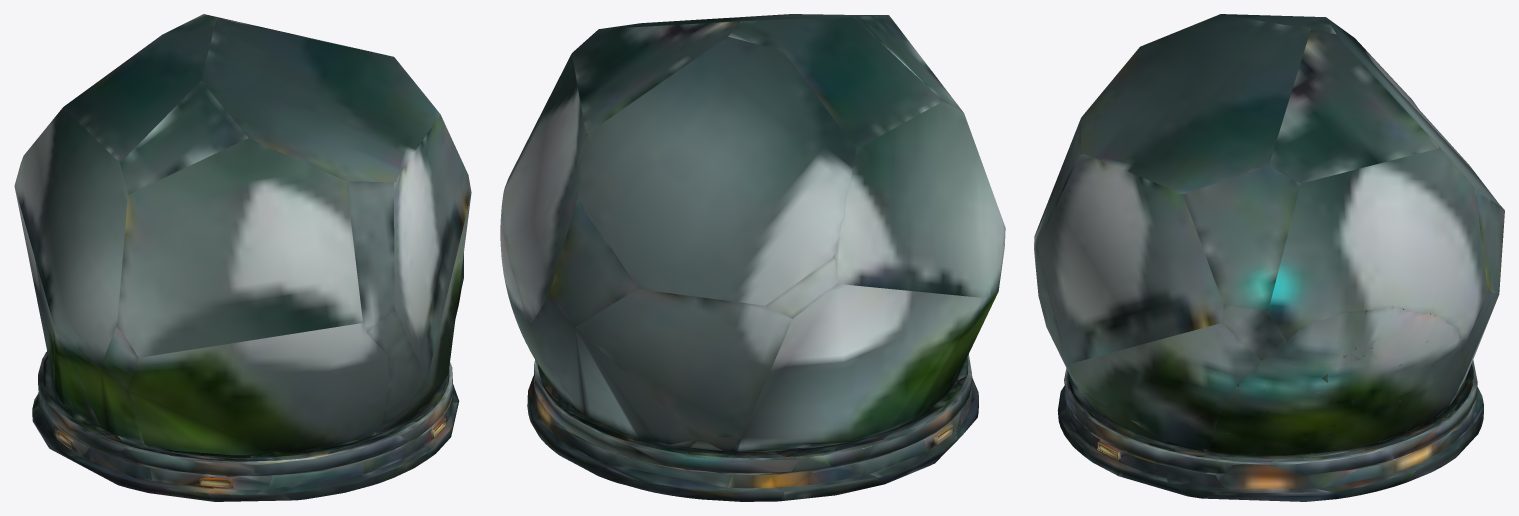
The model's file is hero-sky-dome-lod2.glb.
The picture shows the model from 3 angles, left to right: view 1: azimuth 30°, elevation 25°; view 2: azimuth 150°, elevation 25°; view 3: azimuth 270°, elevation 25°; orthographic projection. The views are drawn at different scales.
Visible parts, largest first — view 1: node_0; view 2: node_0; view 3: node_0.
Boxes of the visible parts, x1,y1,x2,y2 form: node_0: (14,14,471,501); node_0: (500,14,1005,501); node_0: (1034,14,1504,501).
Bounding box in the file's own units: 0.9431 × 0.8396 × 0.9427.
Materials: 1 (1 with a texture image).
